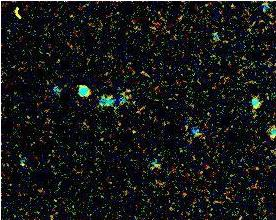star: (7, 149, 37, 179)
